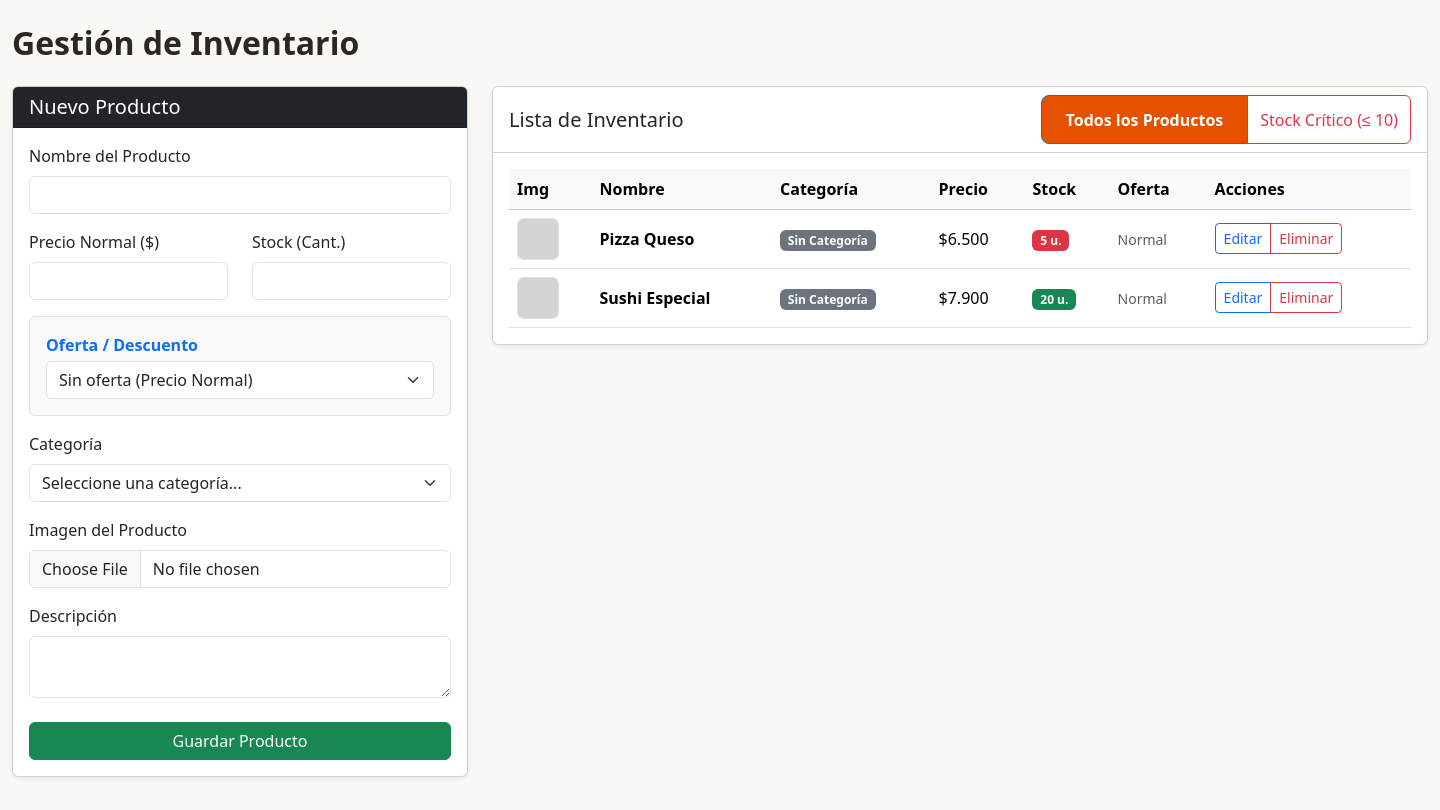
Test: Vista de Administración de Productos › Debe enviar una petición PUT al actualizar un producto
Later steps or results of the test are not shown.
Expected: the text "Pizza Queso" is shown, left=592, top=209, right=772, bottom=268
Step 1. Click the button "Editar" in the row of "Pizza Queso" → (1243, 239), box left=1215, top=223, right=1271, bottom=254
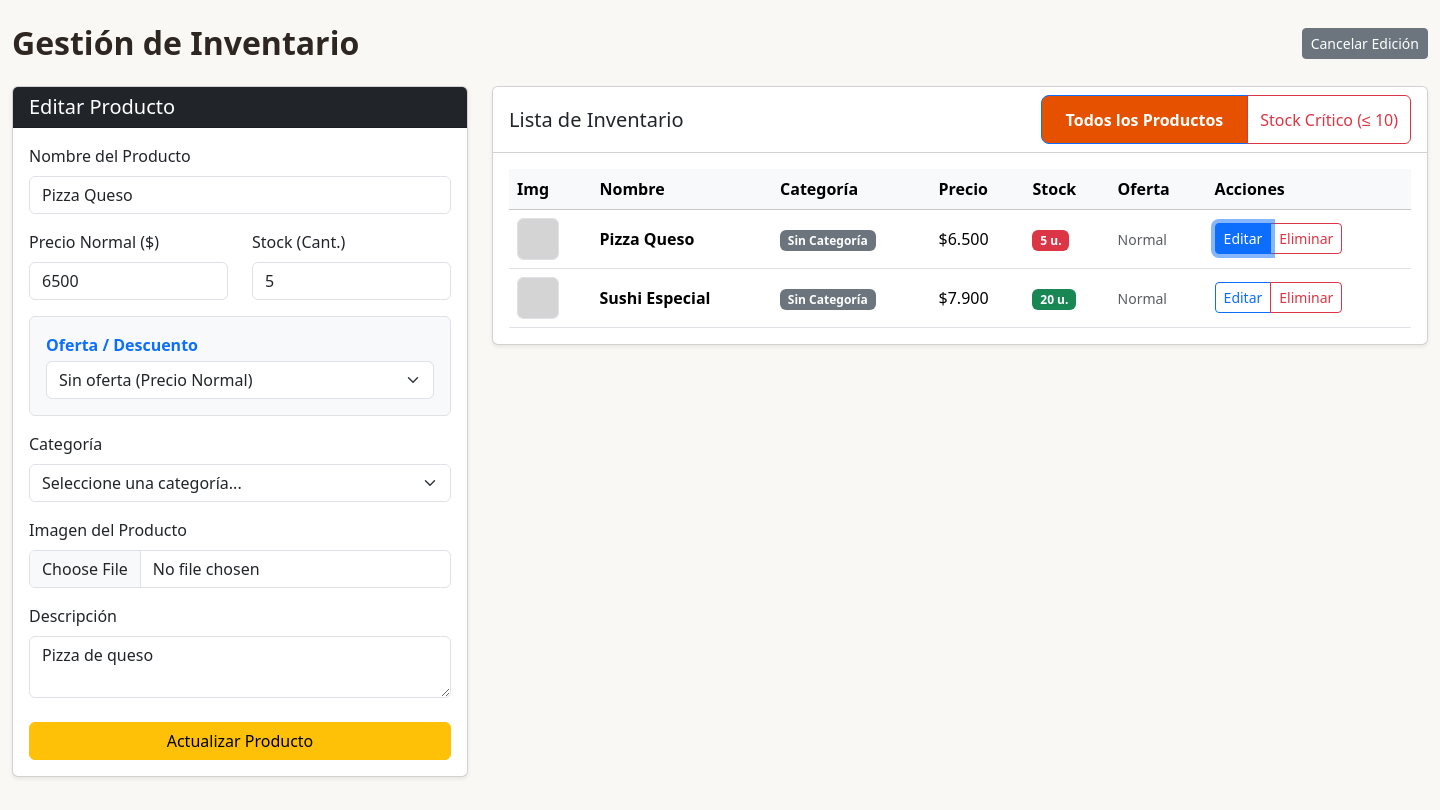
Result: the heading "Editar Producto" is shown at left=29, top=93, right=175, bottom=120
